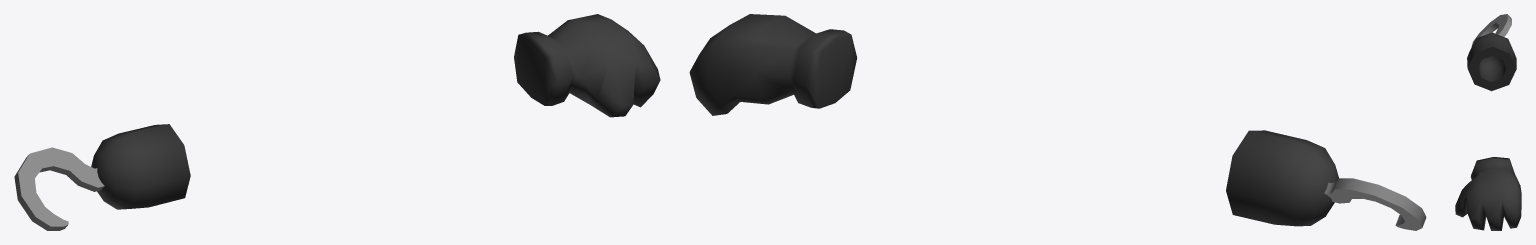
Rendered from Glove_15.fbx.
The picture shows the model from 3 angles, left to right: view 1: azimuth 30°, elevation 25°; view 2: azimuth 150°, elevation 25°; view 3: azimuth 270°, elevation 25°; orthographic projection. The views are drawn at different scales.
Visible parts, largest first — view 1: Glove_15; view 2: Glove_15; view 3: Glove_15.
Boxes of the visible parts, bbox=[...] form: Glove_15: bbox=[14, 14, 660, 230]; Glove_15: bbox=[689, 14, 1426, 230]; Glove_15: bbox=[1455, 14, 1521, 230].
Bounding box in the file's own units: 156 × 20.64 × 23.93.
